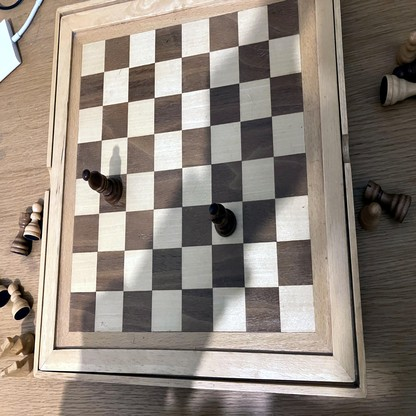knight_black: (82, 169, 123, 204), (209, 202, 236, 237)
knight_white: (0, 333, 33, 359), (2, 356, 34, 377)
pawn_white: (7, 284, 29, 321), (24, 202, 43, 240), (359, 203, 381, 229)
rock_black: (365, 182, 411, 221), (9, 214, 30, 256)
